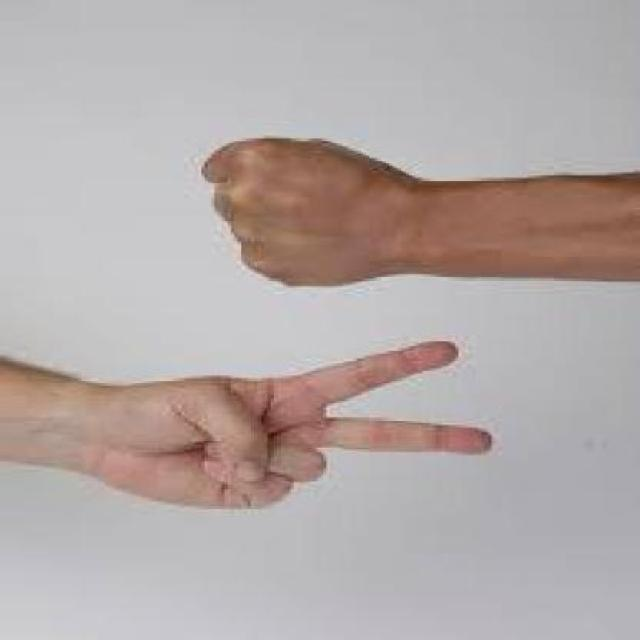Paper: (42, 332, 544, 558)
Rock: (129, 103, 458, 301)
